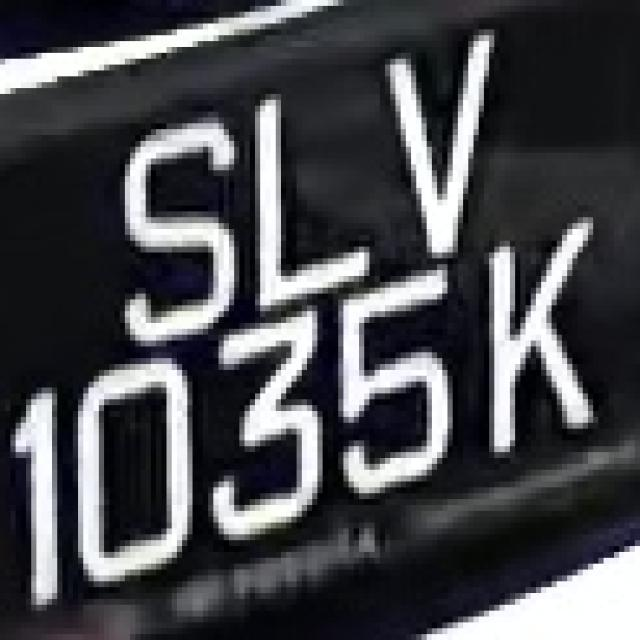0: (68, 358, 213, 576)
1: (10, 364, 73, 605)
3: (198, 317, 333, 552)
5: (328, 276, 463, 511)
K: (473, 223, 609, 470)
L: (239, 53, 385, 317)
S: (99, 100, 234, 346)
V: (364, 29, 505, 264)
